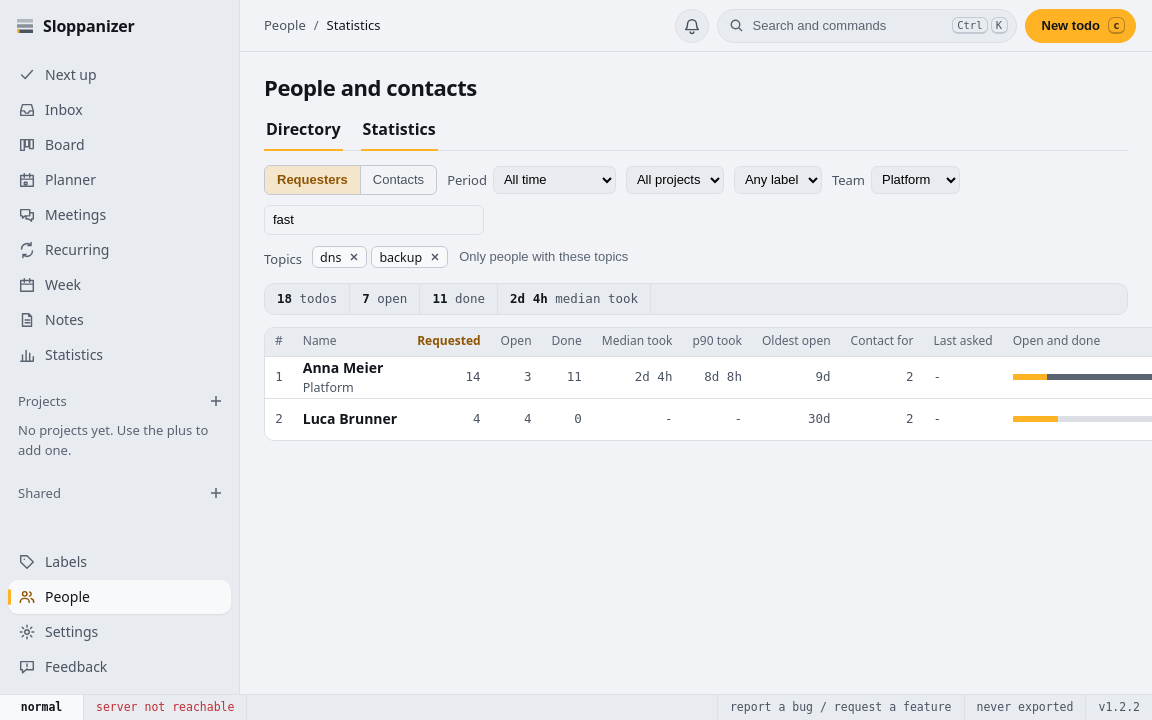
Scenario: people statistics › sends the URL filters and changes the sort from a header click
Expected: the table is shown, [264,326,1151,441]
Click the button "Median took".
click(637, 342)  # box [602,332,672,351]
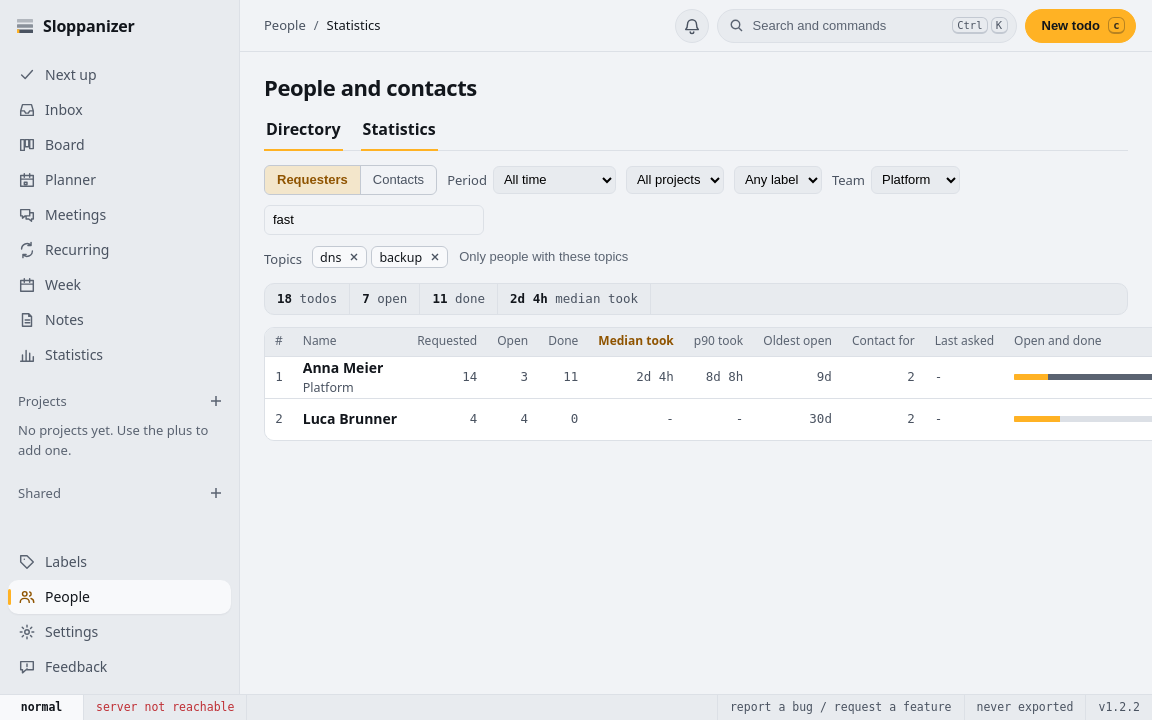
Result: the column heading "Median took" has attribute aria-sort="ascending" at [588,328,684,356]
